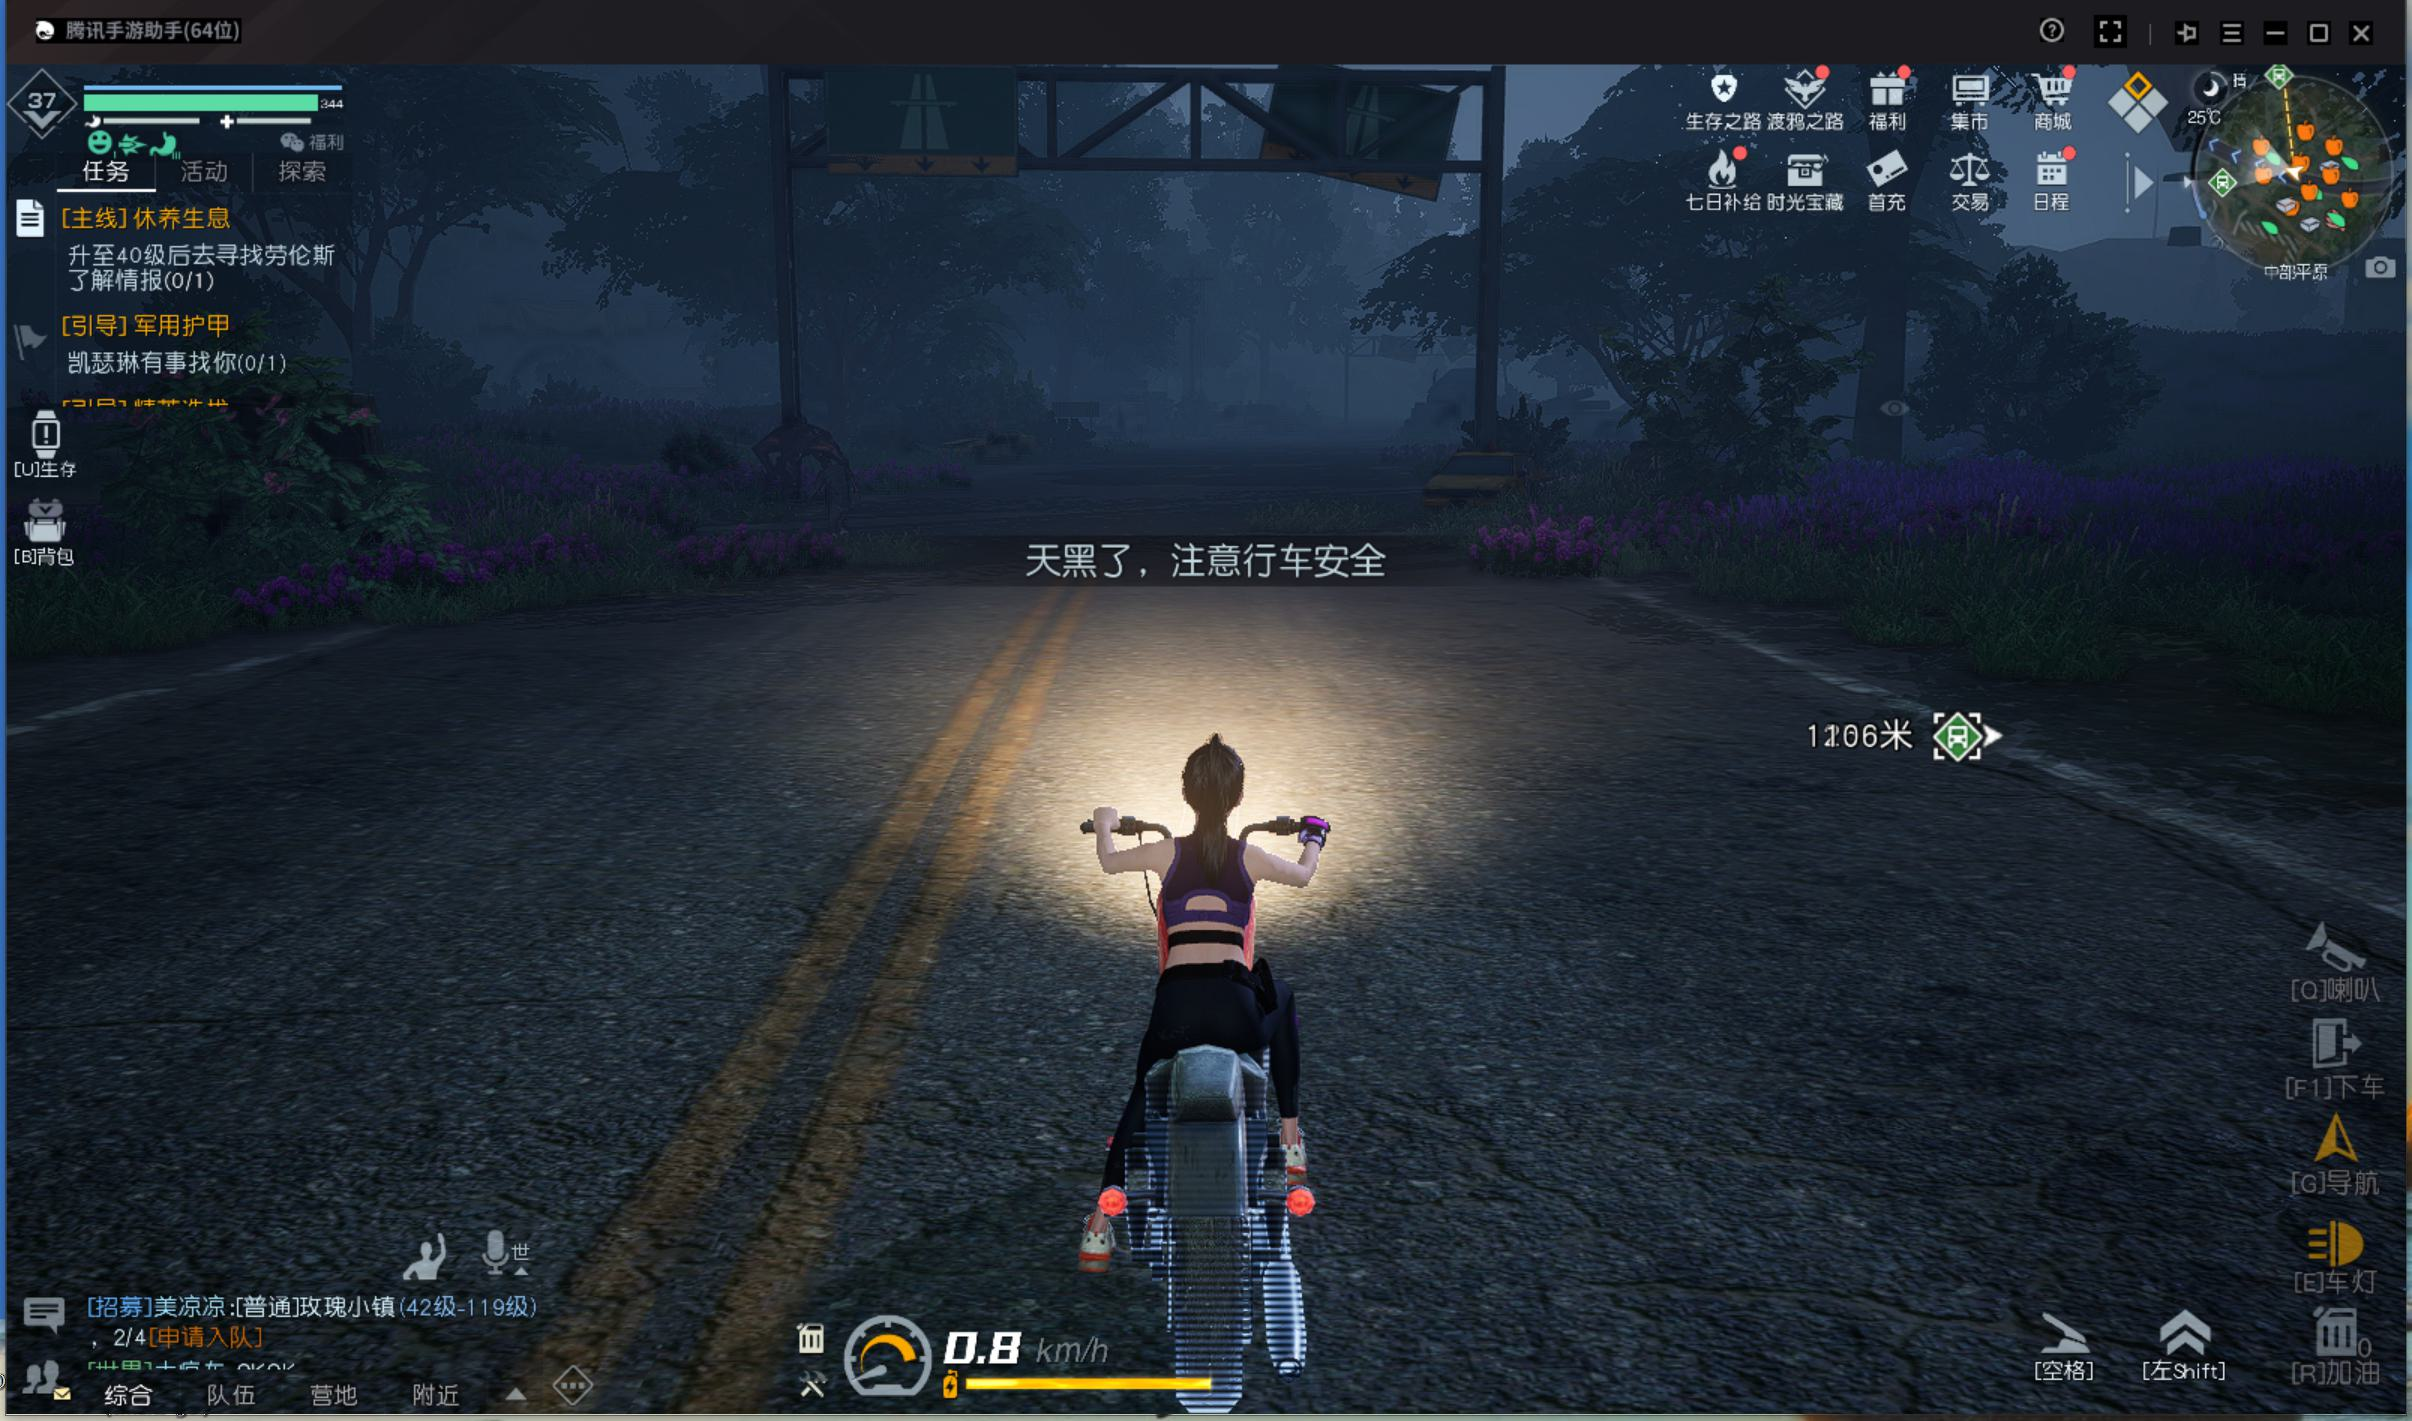tree: (1828, 249, 1918, 474)
